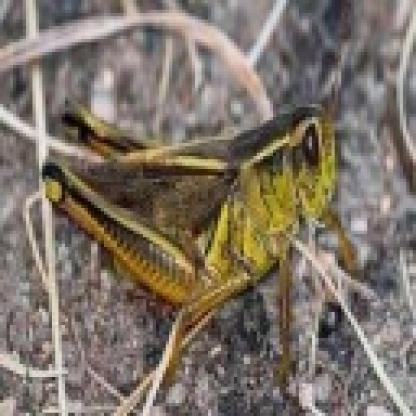grasshopper: (24, 83, 363, 357)
